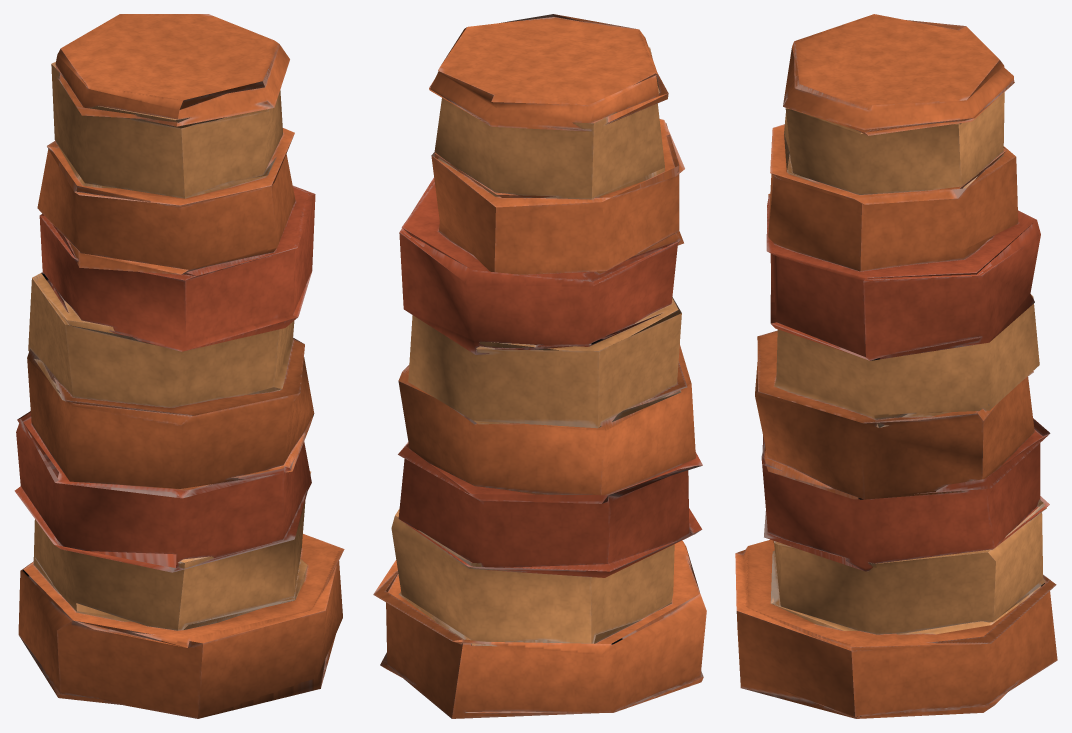
File: rr_mesa_b.glb
The picture shows the model from 3 angles, left to right: view 1: azimuth 30°, elevation 25°; view 2: azimuth 150°, elevation 25°; view 3: azimuth 270°, elevation 25°; orthographic projection.
Visible parts, largest first — view 1: rr_mesa_b; view 2: rr_mesa_b; view 3: rr_mesa_b.
Boxes of the visible parts, x1,y1,x2,y2 form: rr_mesa_b: (14,14,344,718); rr_mesa_b: (373,14,706,718); rr_mesa_b: (735,14,1057,718).
Bounding box in the file's own units: 9.49 × 18.97 × 9.27.
3 materials, 3 textured.
